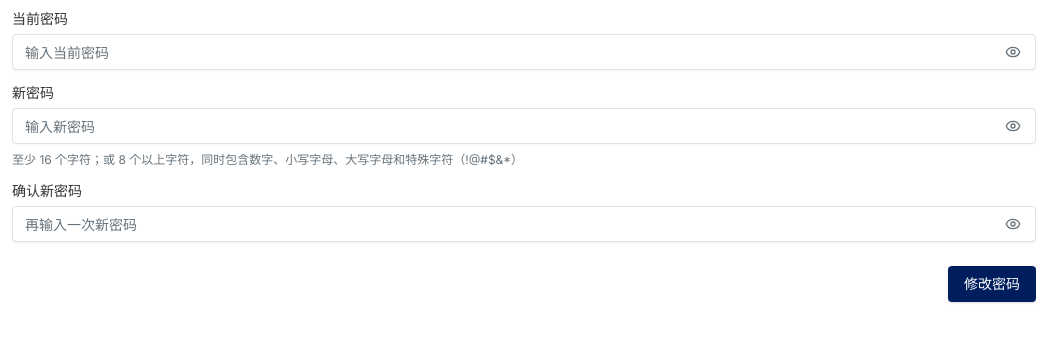
Test: PasswordChangeForm › maps a backend error code to friendly copy instead of the raw msg
Type "Oldpass0!" into the password field with placeholder "输入当前密码".
click(505, 52); type("Oldpass0!")  # box [13, 34, 997, 70]
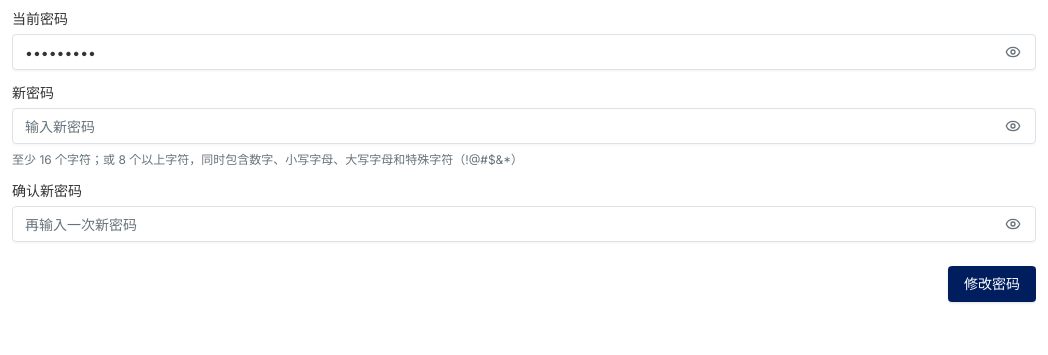
Type "Abcdef1!gh" into the password field with placeholder "输入新密码".
click(505, 126); type("Abcdef1!gh")  # box [13, 108, 997, 144]
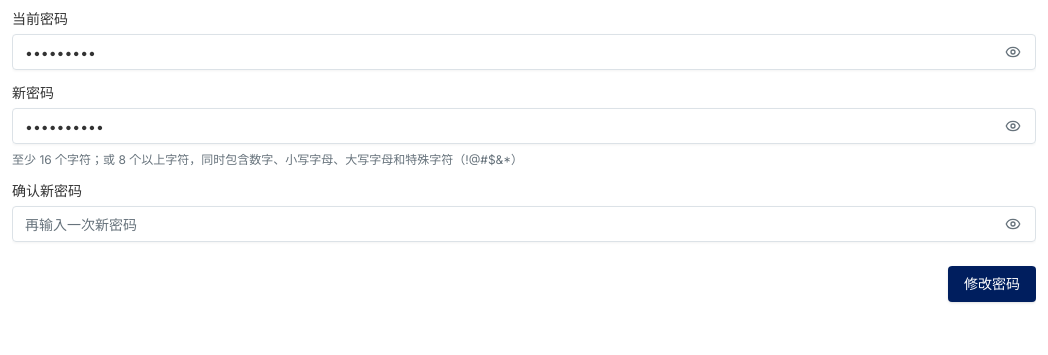
Type "Abcdef1!gh" into the password field with placeholder "再输入一次新密码".
click(505, 224); type("Abcdef1!gh")  # box [13, 206, 997, 242]
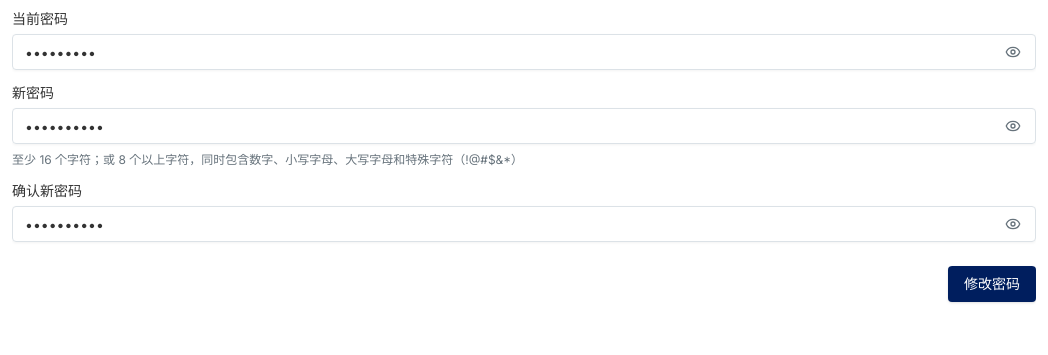
Click the button "修改密码".
click(992, 284)  # box [948, 266, 1036, 302]
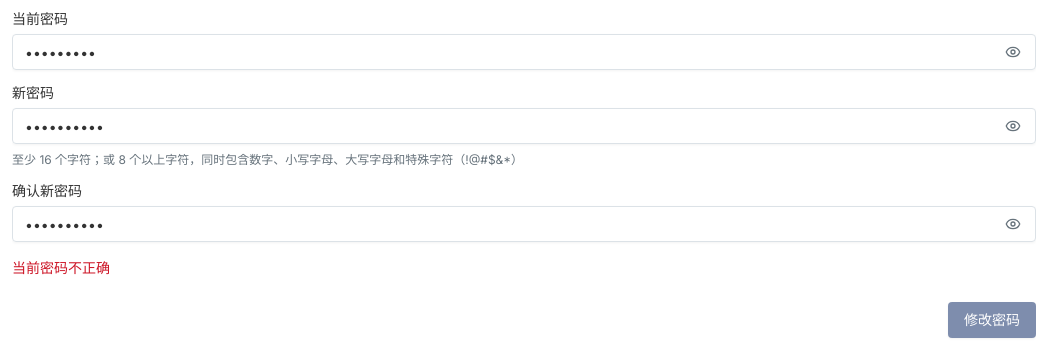
Check: the text "当前密码不正确" is shown, box [12, 259, 110, 276]
